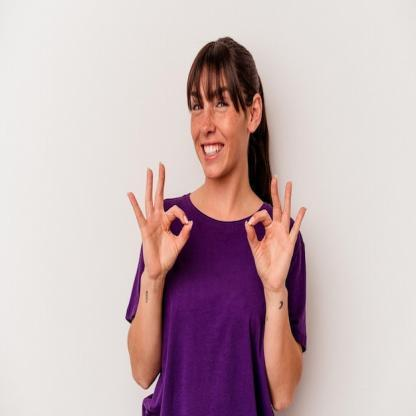ok: (127, 159, 196, 283), (242, 171, 308, 294)
